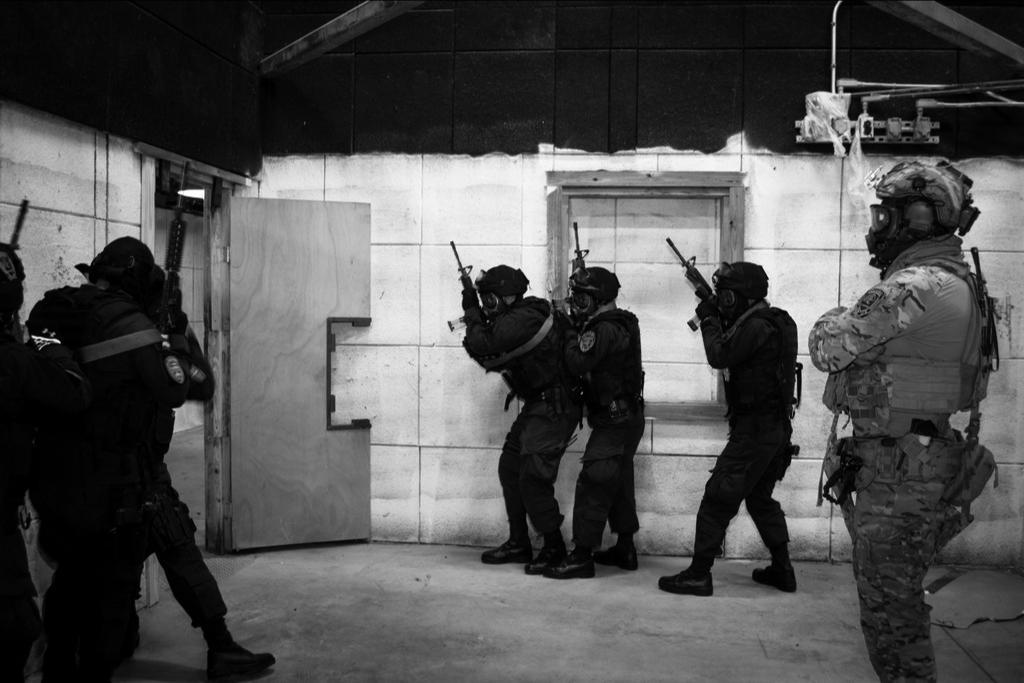gun: (162, 158, 195, 348), (667, 236, 715, 354), (450, 240, 492, 353), (568, 220, 588, 357)
